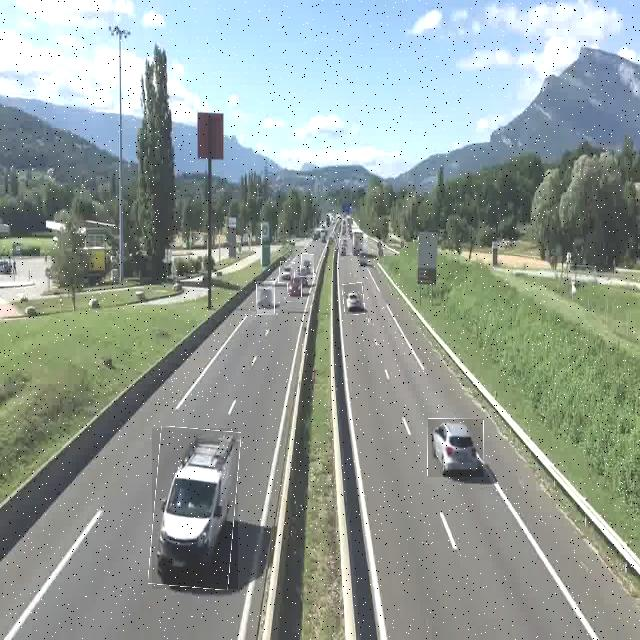Car: (152, 428, 238, 589), (428, 418, 484, 477), (344, 283, 364, 314), (257, 281, 275, 315), (288, 272, 302, 302), (279, 262, 294, 283), (301, 254, 314, 277)
